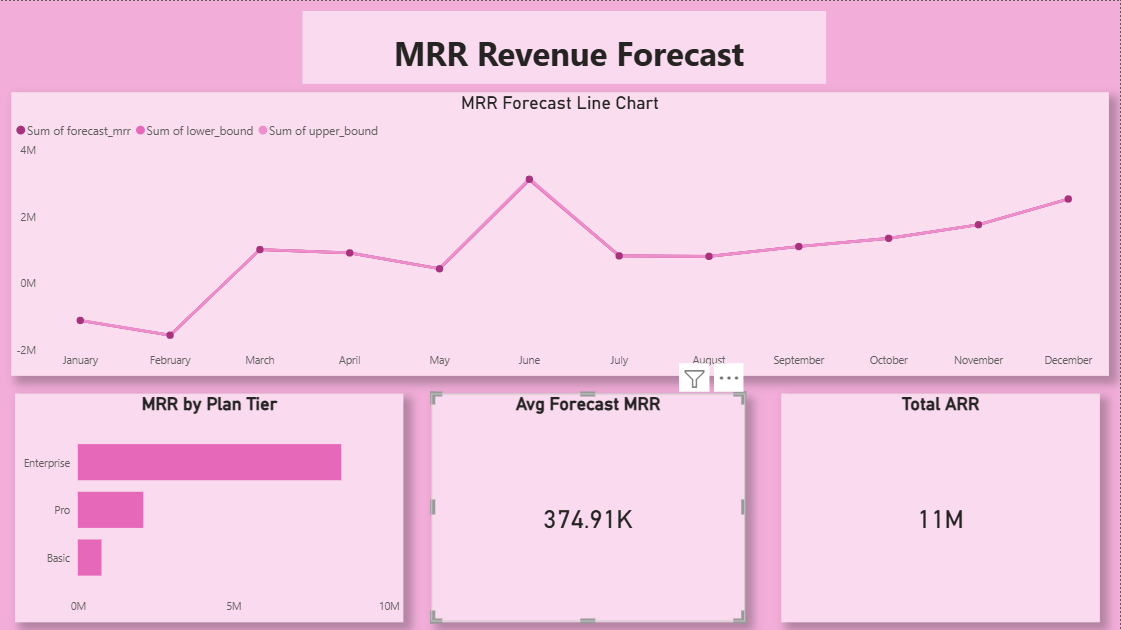

The page's visual inventory and layout, read from the dashboard file:
{"tool":"powerbi","page":{"name":"MRR Revenue","canvas":[1280,720],"ordinal":2},"visuals":[{"type":"textbox","box":[345.7,11.4,598.6,82.9],"z":0},{"type":"lineChart","title":"MRR Forecast Line Chart","fields":{"Category":["mrr_forecast.month.Variation.Date Hierarchy.Month"],"Y":["Sum(mrr_forecast.forecast_mrr)","Sum(mrr_forecast.lower_bound)","Sum(mrr_forecast.upper_bound)"]},"box":[12.9,104.3,1254.3,324.3],"z":1000},{"type":"clusteredBarChart","title":"MRR by Plan Tier","fields":{"Category":["subscriptions.plan_tier"],"Y":["Sum(subscriptions.mrr_amount)"]},"box":[16.9,448.6,444.3,261.4],"z":2000},{"type":"card","title":"Avg Forecast MRR","fields":{"Values":["Avg(mrr_forecast.forecast_mrr)"]},"box":[492.6,448.6,358.6,261.4],"z":3000},{"type":"card","title":"Total ARR","fields":{"Values":["Sum(subscriptions.mrr_amount)"]},"box":[892.6,448.6,364.3,261.4],"z":4000}]}

Visuals, with their boxes in screenshot pixels (x1, y1, x2, y2), scaled from the page's 1280x720 canvas onto the 1121x630 screenshot:
textbox: crop(303, 10, 827, 83)
"MRR Forecast Line Chart" lineChart: crop(11, 91, 1110, 375)
"MRR by Plan Tier" clusteredBarChart: crop(15, 393, 404, 621)
"Avg Forecast MRR" card: crop(431, 393, 745, 621)
"Total ARR" card: crop(782, 393, 1101, 621)
